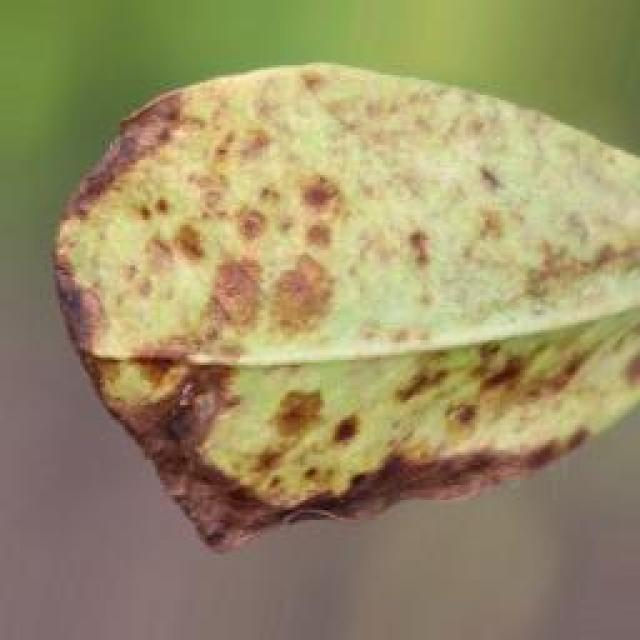Whitefly: (28, 77, 640, 586)
